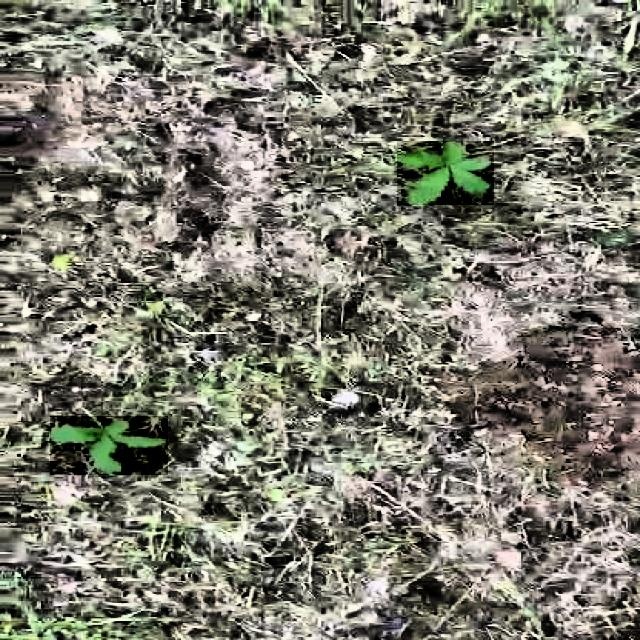Weeds: (50, 416, 168, 475), (397, 141, 494, 205)
